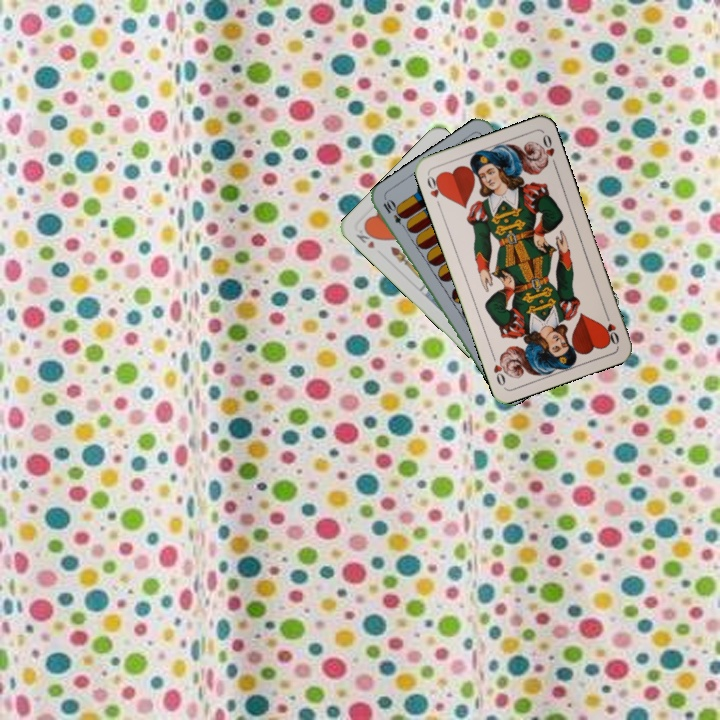E10: (379, 196, 410, 233)
HK: (352, 222, 380, 251)
HO: (423, 171, 447, 210), (600, 308, 622, 347)
